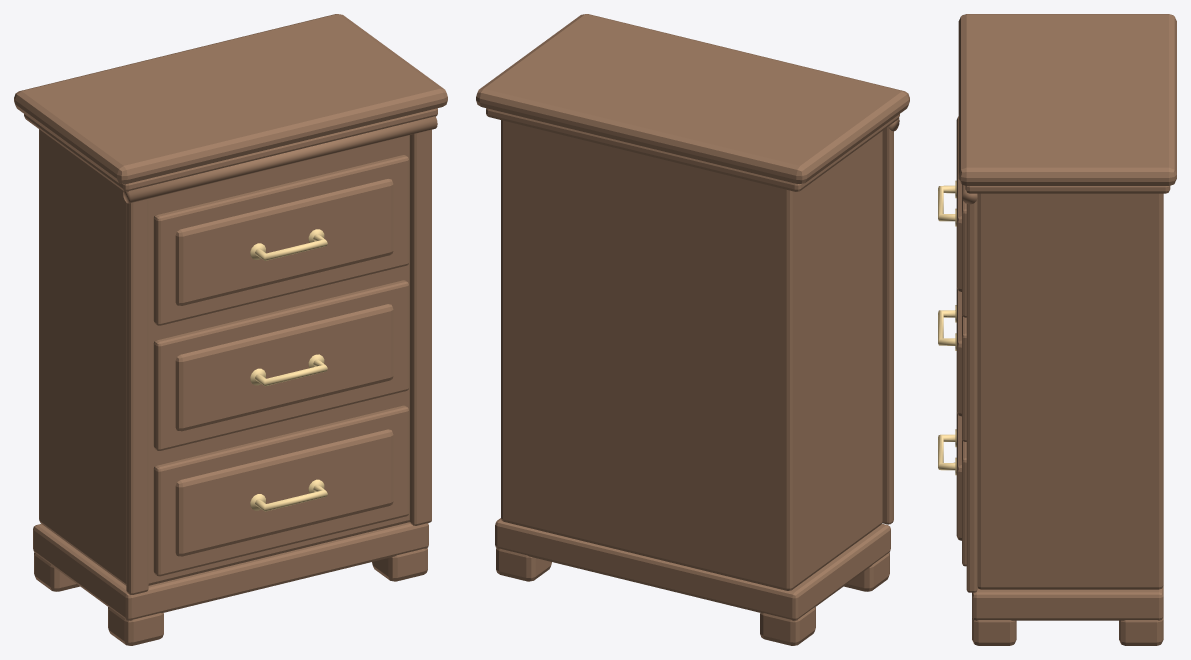
The model's file is dresser.glb.
3 renders of one model, left to right at view 1: azimuth 30°, elevation 25°; view 2: azimuth 150°, elevation 25°; view 3: azimuth 270°, elevation 25°, orthographic.
Visible parts, largest first — view 1: dresser; view 2: dresser; view 3: dresser.
Boxes of the visible parts, x1,y1,x2,y2 form: dresser: (14, 14, 447, 645); dresser: (476, 14, 909, 645); dresser: (938, 14, 1176, 645).
Size of the model in its own units: 1.7 by 2.4 by 1.07.
